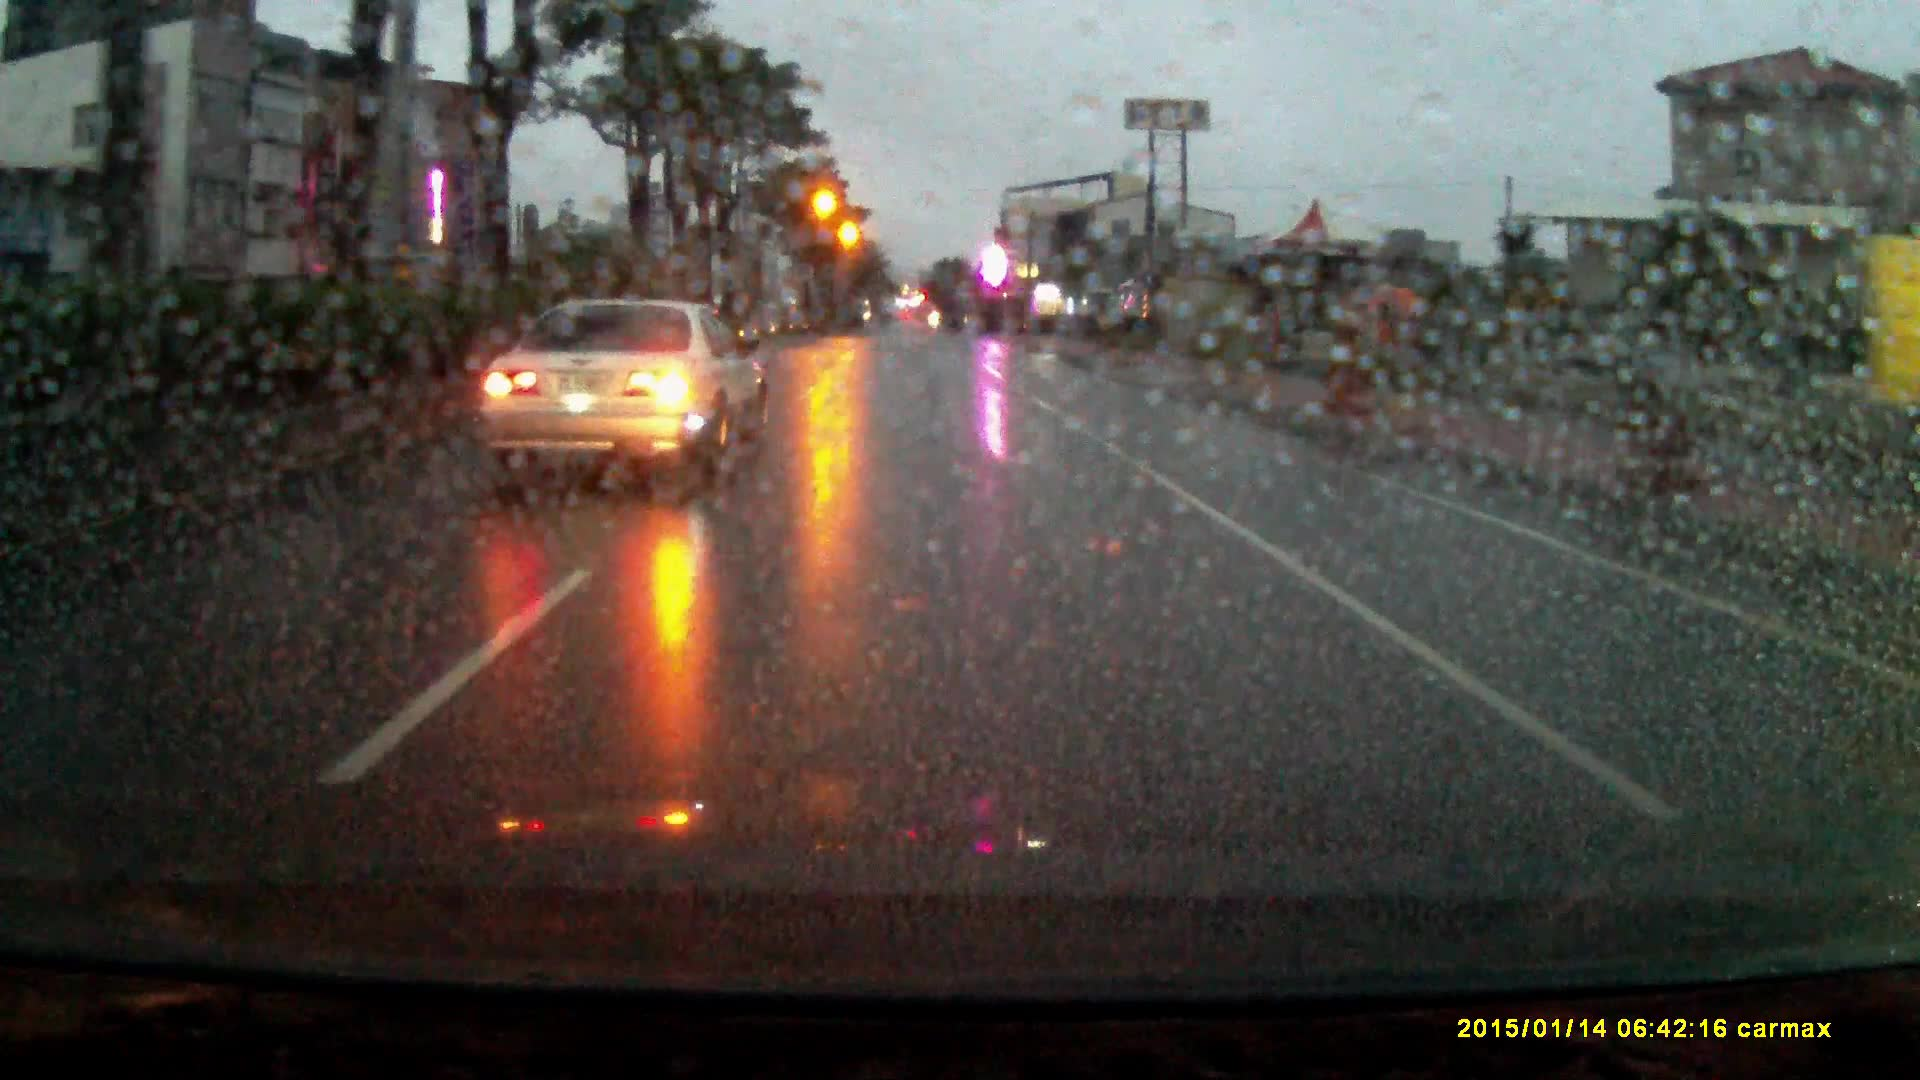pedestrian: (1352, 277, 1422, 421)
vehicle: (480, 287, 777, 485)
